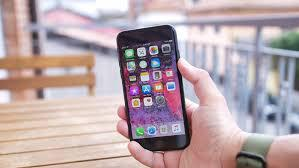Hand: (112, 61, 234, 168)
Smartphone: (119, 29, 185, 148)
